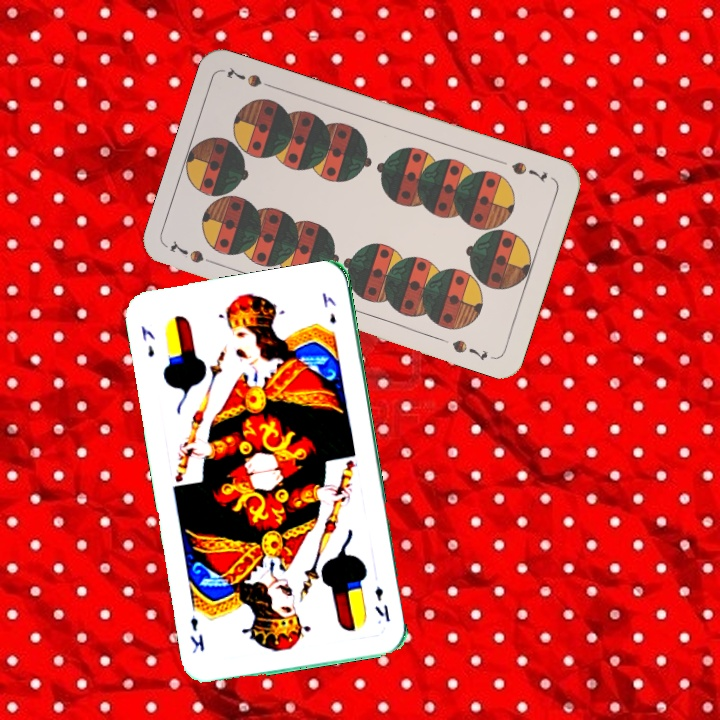EK: (371, 582, 393, 624), (137, 321, 158, 360)
S7: (166, 237, 222, 269), (507, 157, 550, 185)
